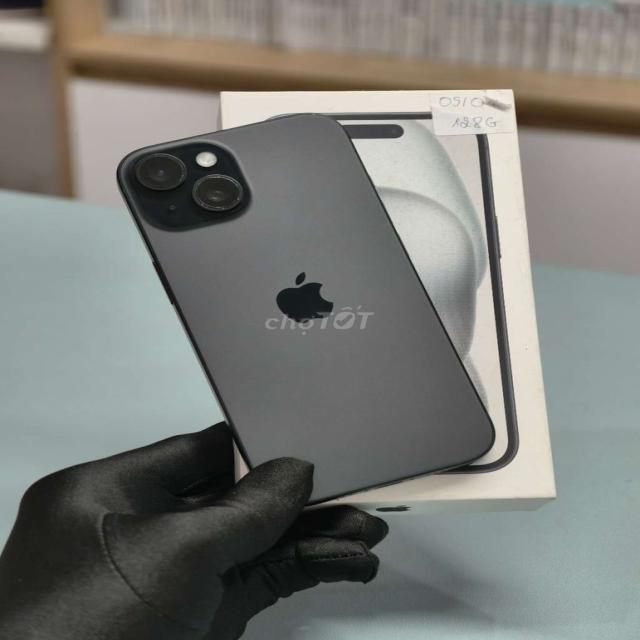gen_15: (96, 105, 509, 527)
scratch: (123, 150, 243, 213)
